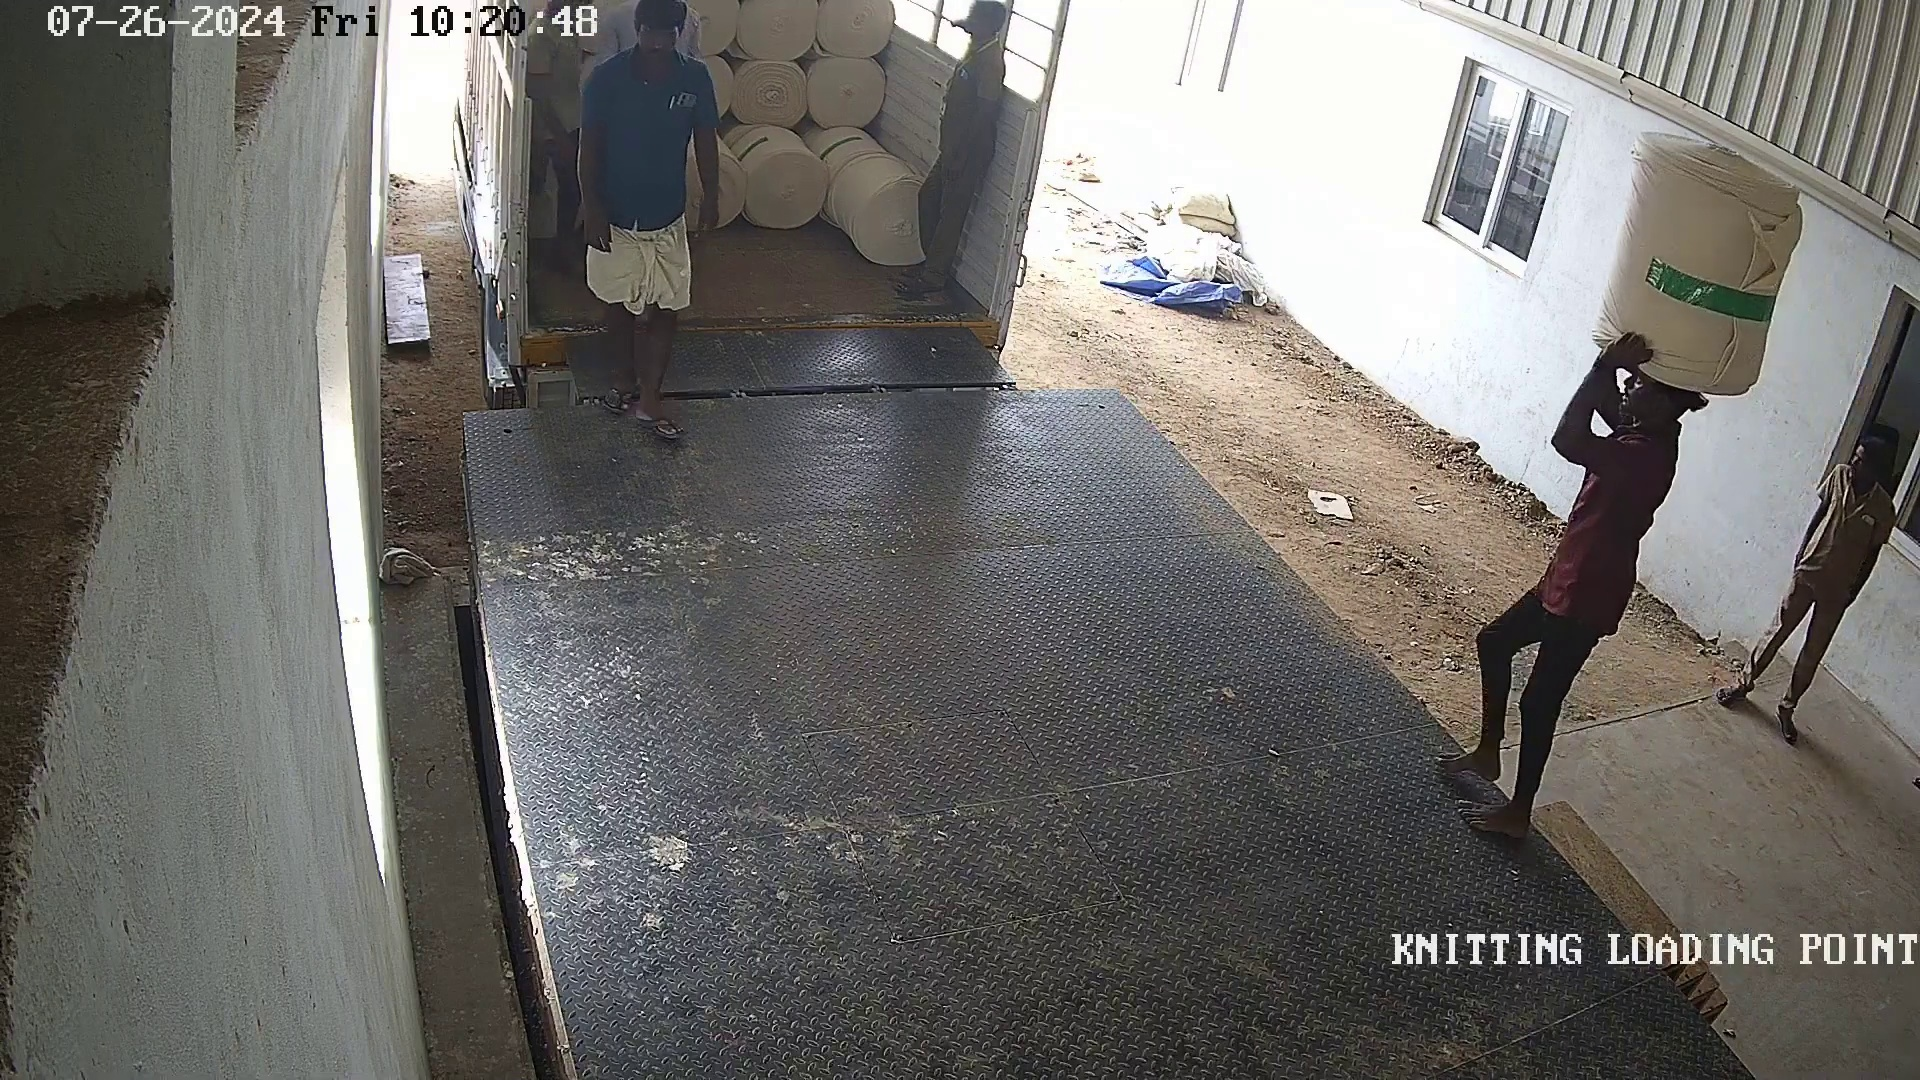bag: (1596, 127, 1809, 404)
